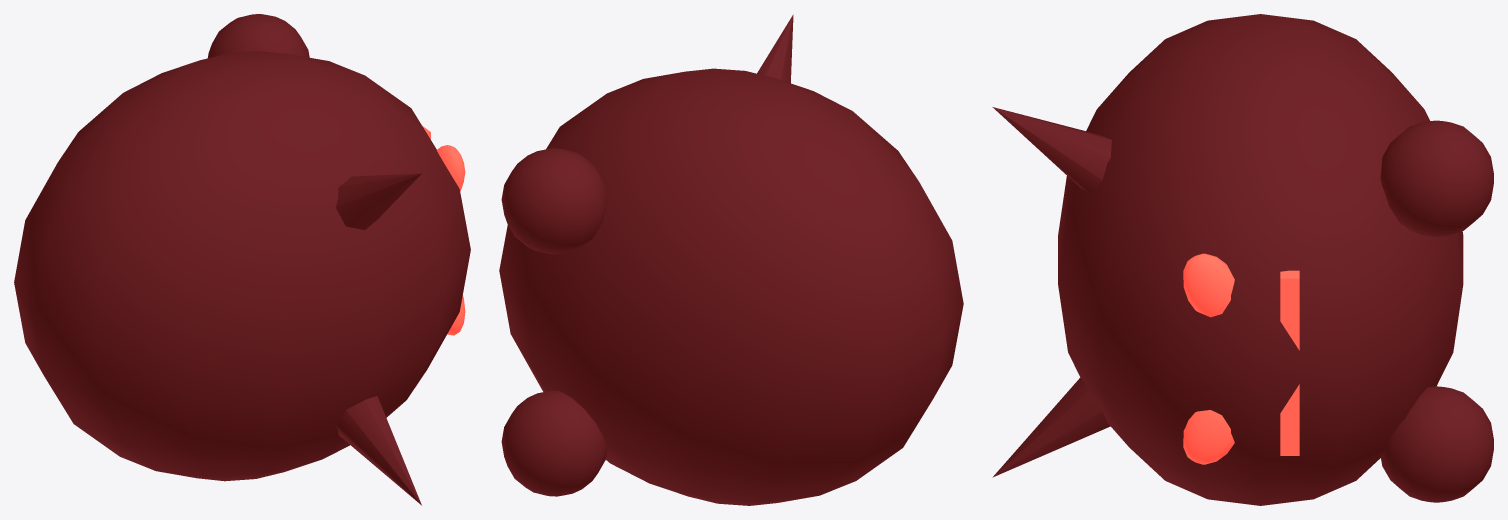
File: trauma-gniew.glb
3 views of the same model, side by side, from view 1: azimuth 30°, elevation 25°; view 2: azimuth 150°, elevation 25°; view 3: azimuth 270°, elevation 25° (orthographic). The views are drawn at different scales.
Visible parts, largest first — view 1: Shadow, Glow; view 2: Shadow; view 3: Shadow, Glow.
Part boxes in pixels (left/top/right/bottom): Shadow: left=14, top=14, right=470, bottom=505; Glow: left=422, top=126, right=465, bottom=335; Shadow: left=499, top=14, right=963, bottom=505; Shadow: left=992, top=14, right=1493, bottom=505; Glow: left=1183, top=253, right=1299, bottom=464.
Bounding box in the file's own units: 1.1 × 1 × 1.03.
